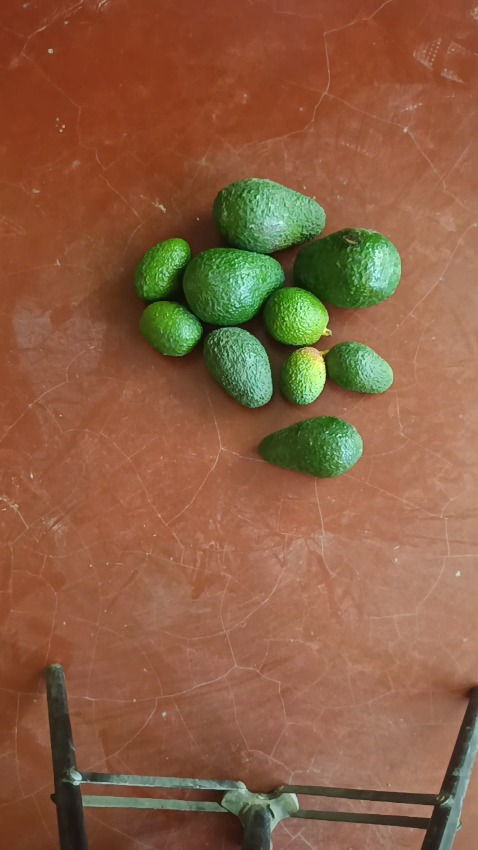Primera: (292, 228, 402, 310), (212, 179, 326, 254), (182, 248, 283, 326)
Segunda: (258, 415, 363, 477), (202, 326, 273, 407)
Tercera: (262, 287, 330, 346), (132, 236, 192, 302), (323, 341, 393, 395), (139, 301, 203, 356), (280, 346, 328, 404)
